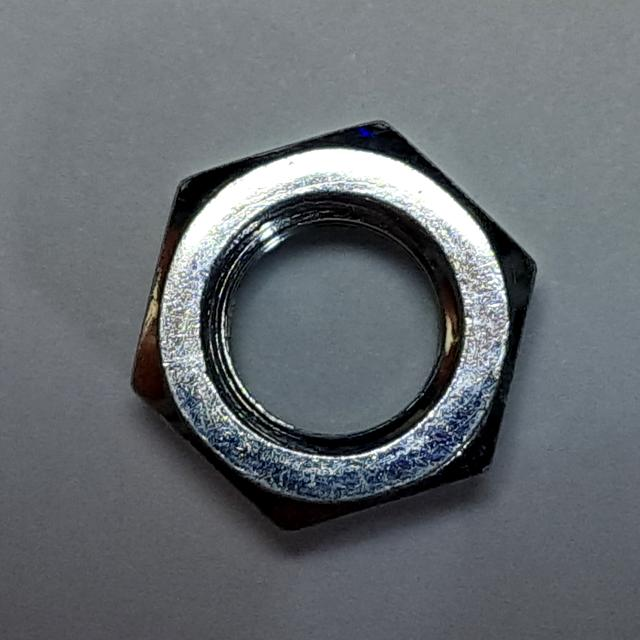Excellent: (113, 102, 559, 558)
